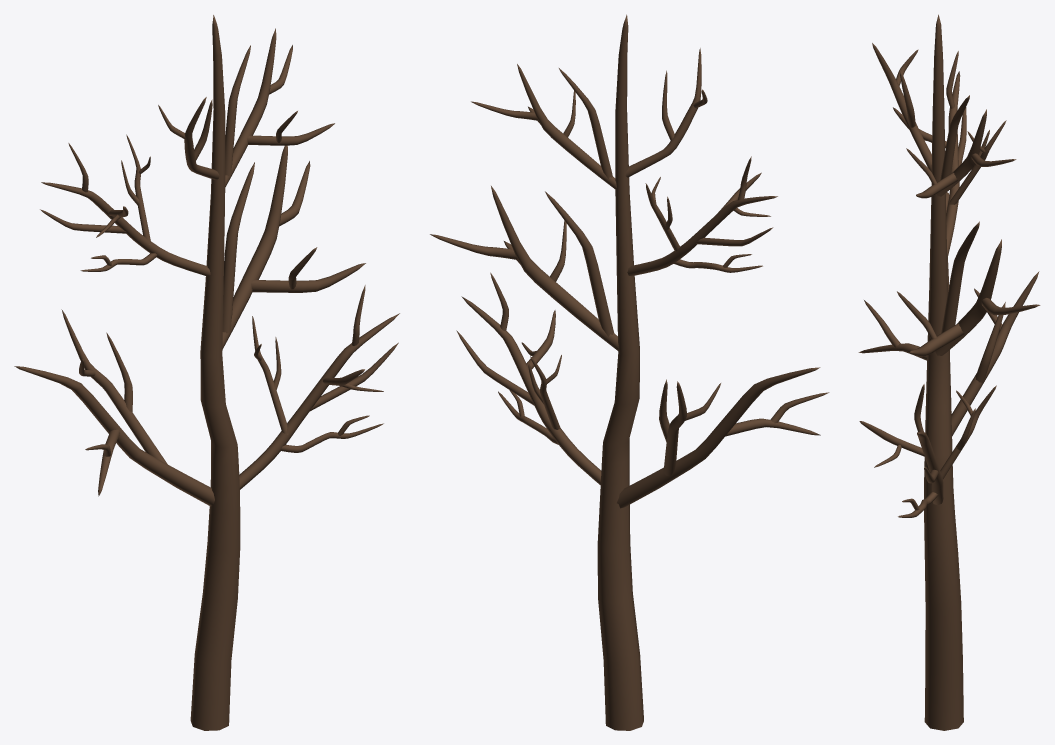
The model's file is DeadTree_2.glb.
The picture shows the model from 3 angles, left to right: view 1: azimuth 30°, elevation 25°; view 2: azimuth 150°, elevation 25°; view 3: azimuth 270°, elevation 25°; orthographic projection.
Visible parts, largest first — view 1: DeadTree_2; view 2: DeadTree_2; view 3: DeadTree_2.
Boxes of the visible parts, left/top/right/bottom form: DeadTree_2: left=14, top=15, right=399, bottom=730; DeadTree_2: left=430, top=14, right=829, bottom=730; DeadTree_2: left=858, top=14, right=1040, bottom=730.
Bounding box in the file's own units: 3.42 × 6.2 × 1.45.
